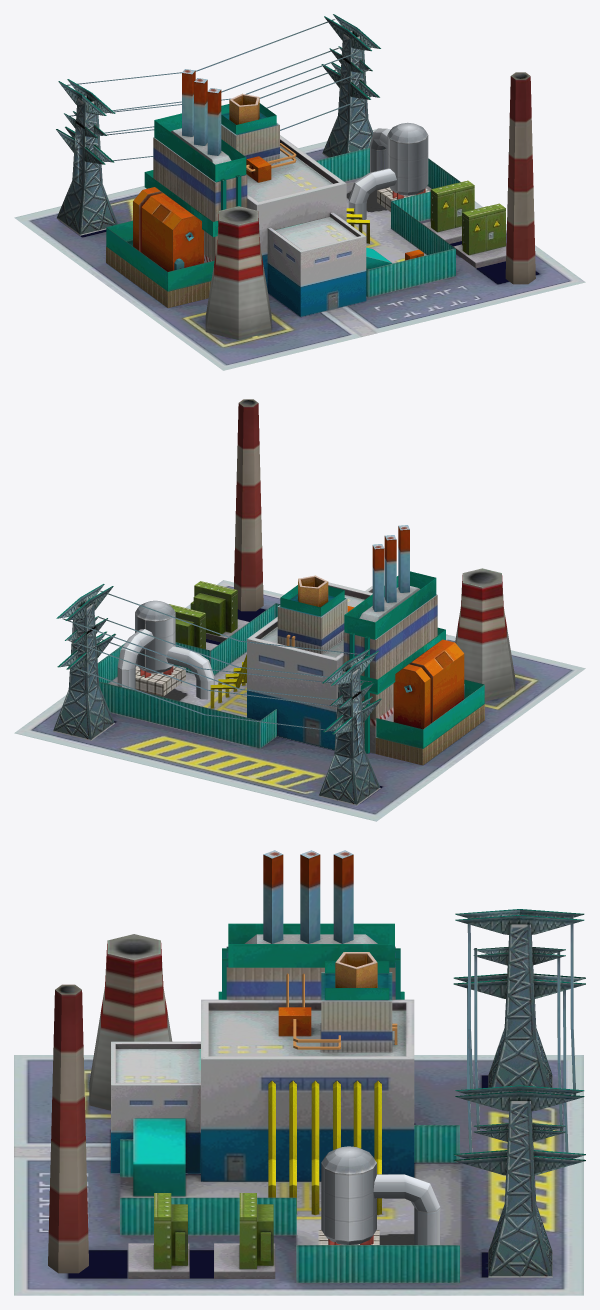
File: power_station_02.obj
3 views of the same model, one above another, from view 1: azimuth 30°, elevation 25°; view 2: azimuth 150°, elevation 25°; view 3: azimuth 270°, elevation 25° (orthographic). The views are drawn at different scales.
Size of the model in its own units: 10.16 by 5.44 by 10.2.
